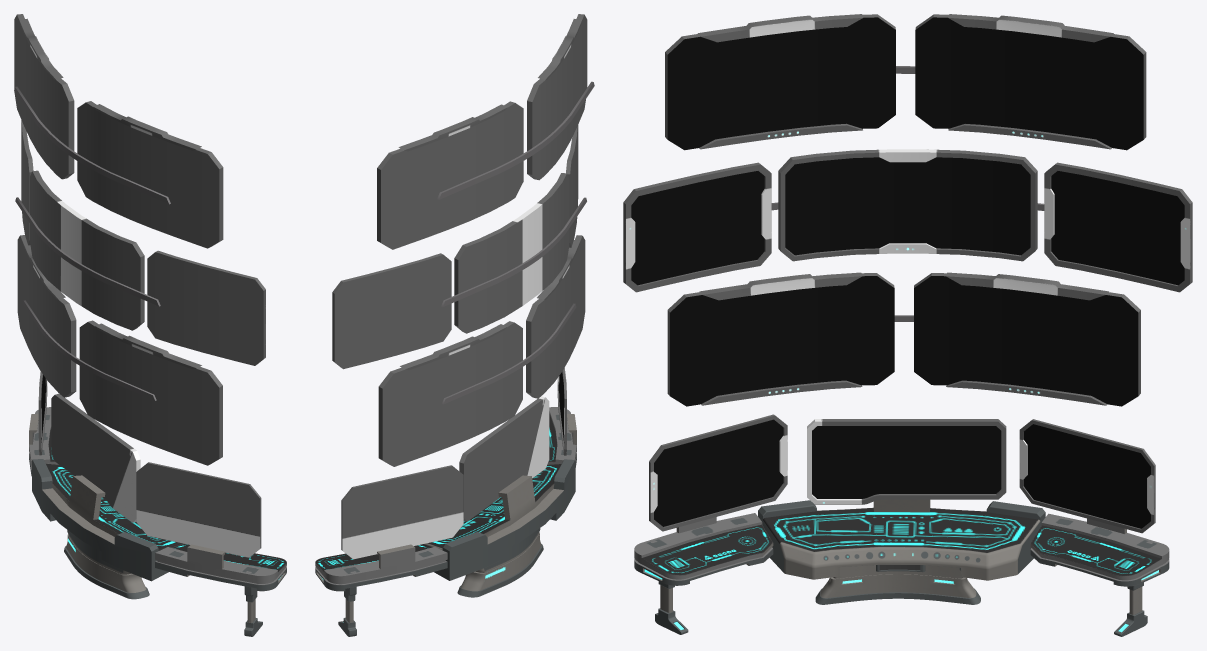
3 views of the same model, side by side, from view 1: azimuth 30°, elevation 25°; view 2: azimuth 150°, elevation 25°; view 3: azimuth 270°, elevation 25° (orthographic). The views are drawn at different scales.
Visible parts, largest first — view 1: Plane.001_low.003, Plane.001_low, Plane_low, Display_mid_center, Mesh105.005_low, Central_low, Cube.002_low, Plane.001_low.004, Plane.001_low.002, Side_panel_low, Body_low, Part_1.004 (+10 smaller); view 2: Plane.001_low.004, Plane.001_low.002, Plane_low.003, Display_mid_center, Mesh105.006_low, Central_low, Cube.002_low, Plane.001_low.003, Plane.001_low, Side_panel_low.001, Body_low, Part_1.004 (+10 smaller); view 3: Display_high_right.001, Display_high_left.001, Display_high_right, Display_high_left, Display_mid_center.001, Central_low, Display_down_centre, Display_Mid_left, Display_mid_right, Display_down_left, Display_down_right, Side_panel_low (+17 smaller).
Boxes of the visible parts, left/top/right/bottom form: Plane.001_low.003: left=77, top=101, right=223, bottom=248; Plane.001_low: left=79, top=320, right=222, bottom=465; Plane_low: left=147, top=250, right=265, bottom=365; Display_mid_center: left=30, top=170, right=144, bottom=330; Mesh105.005_low: left=136, top=462, right=261, bottom=557; Central_low: left=32, top=459, right=183, bottom=581; Cube.002_low: left=51, top=393, right=140, bottom=522; Plane.001_low.004: left=14, top=14, right=74, bottom=179; Plane.001_low.002: left=17, top=235, right=76, bottom=397; Side_panel_low: left=155, top=544, right=286, bottom=591; Body_low: left=66, top=530, right=146, bottom=592; Part_1.004: left=14, top=86, right=170, bottom=204; Plane.001_low.004: left=377, top=101, right=523, bottom=249; Plane.001_low.002: left=378, top=321, right=522, bottom=466; Plane_low.003: left=332, top=253, right=451, bottom=369; Display_mid_center: left=454, top=173, right=569, bottom=333; Mesh105.006_low: left=341, top=465, right=463, bottom=559; Central_low: left=421, top=459, right=575, bottom=580; Cube.002_low: left=459, top=396, right=549, bottom=521; Plane.001_low.003: left=527, top=14, right=587, bottom=180; Plane.001_low: left=526, top=235, right=585, bottom=398; Side_panel_low.001: left=315, top=544, right=447, bottom=591; Body_low: left=460, top=528, right=541, bottom=591; Part_1.004: left=437, top=81, right=594, bottom=199; Display_high_right.001: left=915, top=17, right=1143, bottom=150; Display_high_left.001: left=667, top=17, right=895, bottom=150; Display_high_right: left=914, top=276, right=1138, bottom=406; Display_high_left: left=670, top=276, right=894, bottom=406; Display_mid_center.001: left=785, top=157, right=1030, bottom=255; Central_low: left=758, top=499, right=1045, bottom=580; Display_down_centre: left=812, top=426, right=1001, bottom=498; Display_Mid_left: left=631, top=171, right=764, bottom=285; Display_mid_right: left=1051, top=171, right=1184, bottom=285; Display_down_left: left=654, top=419, right=783, bottom=526; Display_down_right: left=1023, top=424, right=1150, bottom=528; Side_panel_low: left=634, top=513, right=773, bottom=585.
Bounding box in the file's own units: 1.21 × 4.47 × 4.03.
13 materials, 2 textured.
